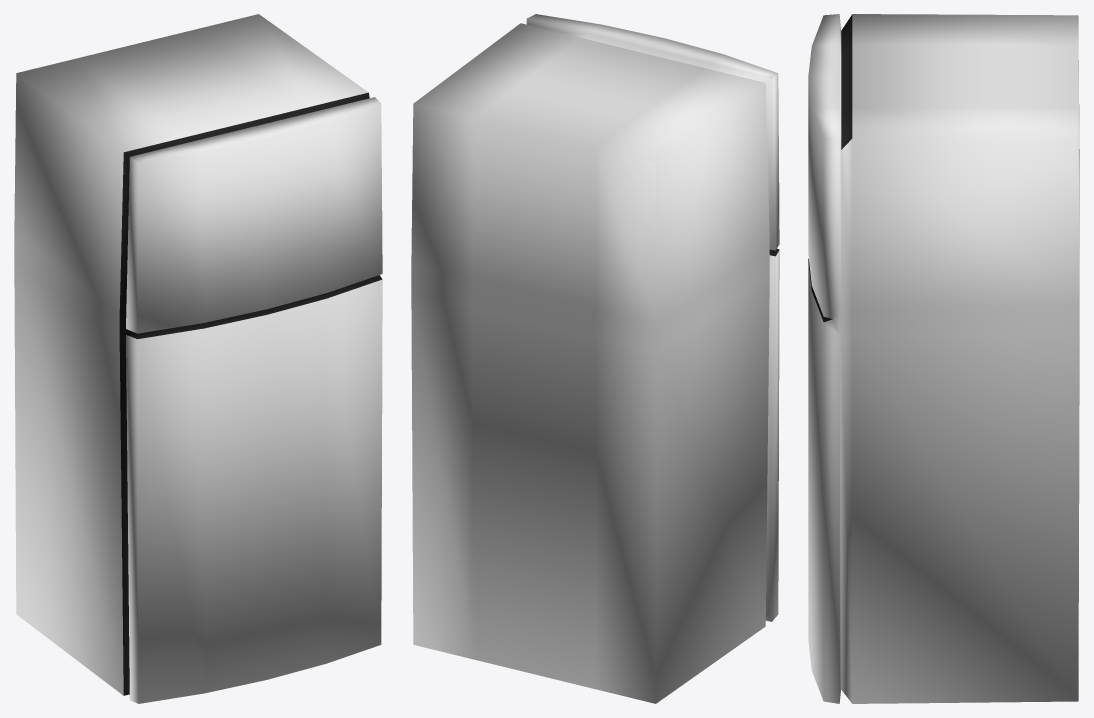
The model's file is Geladeira.fbx.
The picture shows the model from 3 angles, left to right: view 1: azimuth 30°, elevation 25°; view 2: azimuth 150°, elevation 25°; view 3: azimuth 270°, elevation 25°; orthographic projection. The views are drawn at different scales.
Visible parts, largest first — view 1: Geladeira; view 2: Geladeira; view 3: Geladeira.
Part boxes in pixels (x1,y1,x2,y2): Geladeira: (14, 14, 382, 703); Geladeira: (411, 14, 779, 703); Geladeira: (808, 14, 1079, 703).
Size of the model in its own units: 88.11 by 181 by 78.64.
Materials: 1 (1 with a texture image).
